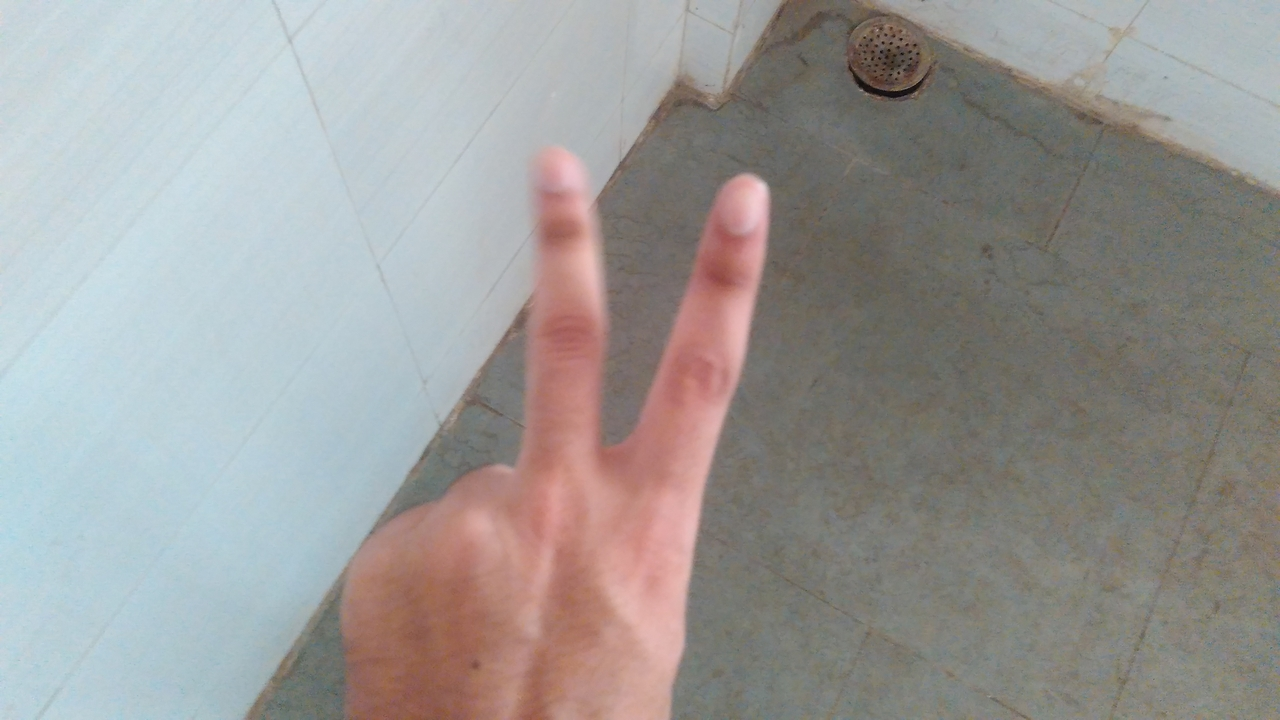fingertip: (702, 166, 778, 242), (524, 140, 594, 202)
